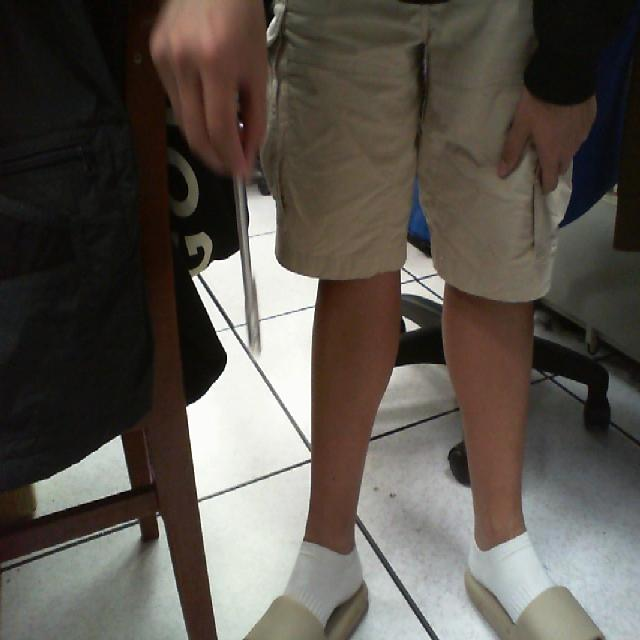Pen: (220, 141, 285, 381)
